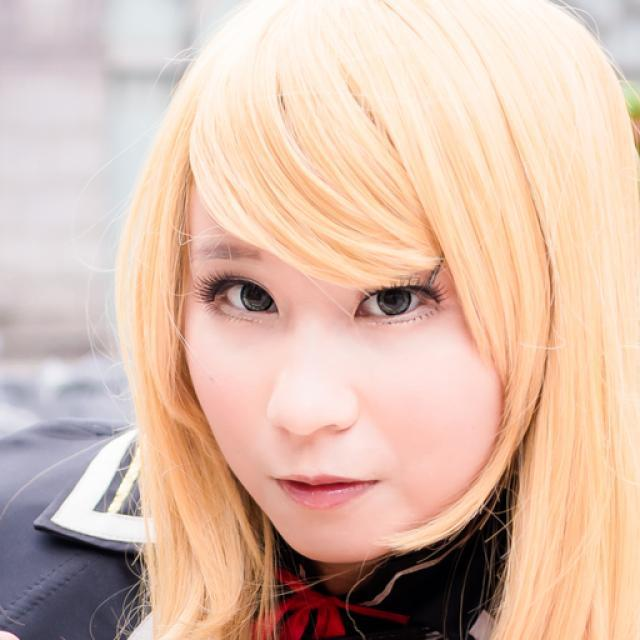neutral: (177, 108, 505, 562)
